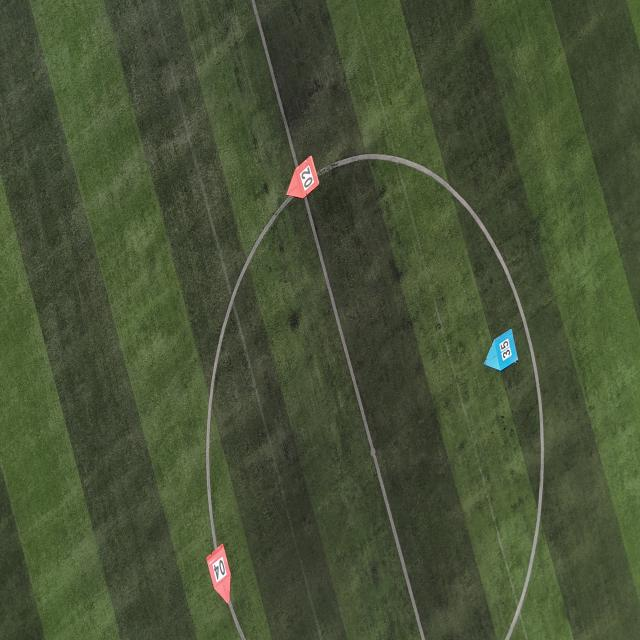board: (206, 543, 231, 606), (285, 154, 320, 199), (484, 328, 519, 372)
